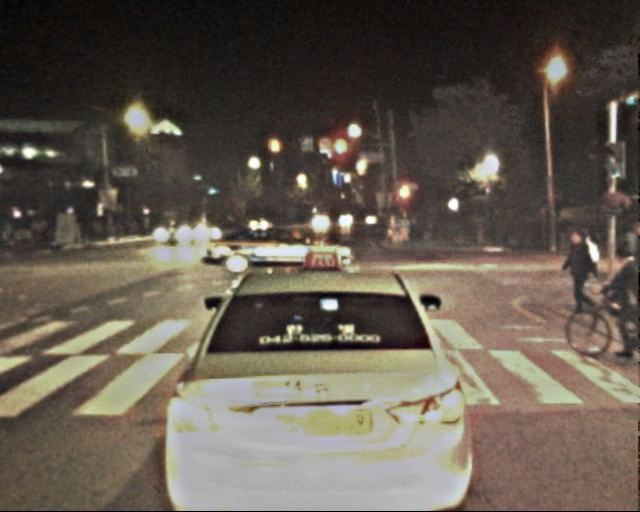person: (598, 238, 640, 362), (560, 230, 594, 312), (583, 228, 605, 281), (409, 215, 438, 246), (6, 210, 24, 243)
